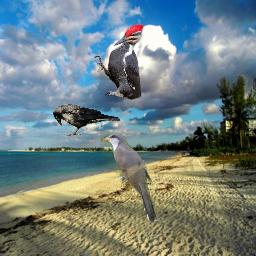Crow: (53, 104, 121, 138)
Cuckoo: (100, 132, 158, 224)
Woodpecker: (94, 24, 143, 100)
